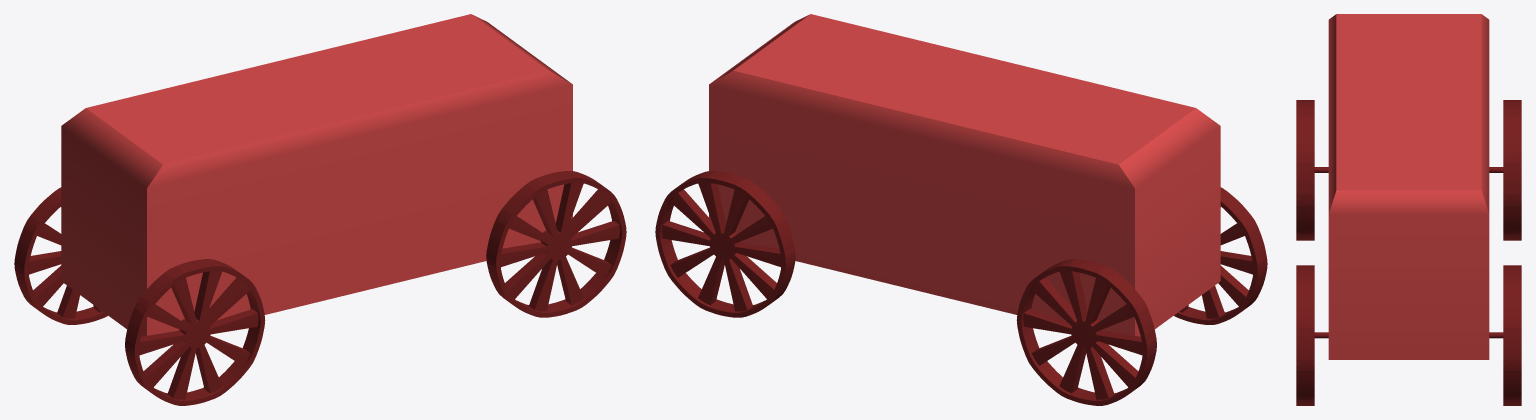
File: CartLow.fbx
The picture shows the model from 3 angles, left to right: view 1: azimuth 30°, elevation 25°; view 2: azimuth 150°, elevation 25°; view 3: azimuth 270°, elevation 25°; orthographic projection. The views are drawn at different scales.
Parts seen in each view (by area): view 1: polySurface40; view 2: polySurface40; view 3: polySurface40.
Boxes of the visible parts, <box> form: polySurface40: <box>14,14,626,405</box>; polySurface40: <box>655,14,1267,405</box>; polySurface40: <box>1296,14,1521,405</box>.
Bounding box in the file's own units: 21.66 × 9.55 × 9.17.
